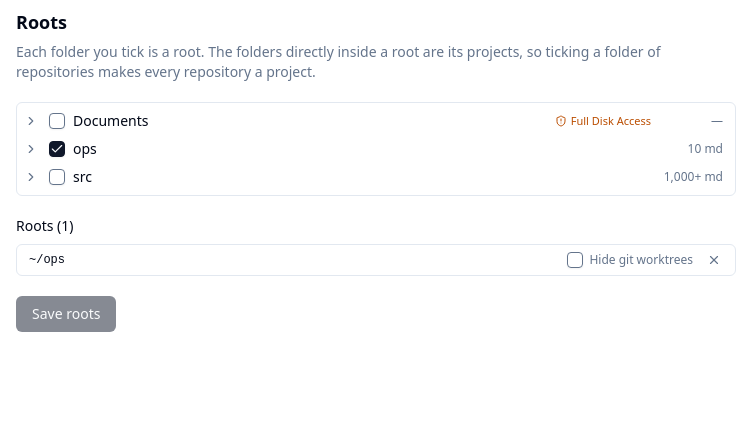
Test case: SettingsView — what a save means › waits for the supervised restart to come back on the new roots
Click the checkbox named "Use /Users/me/src as a root" at {"x": 57, "y": 177}, box [49,169,65,185]
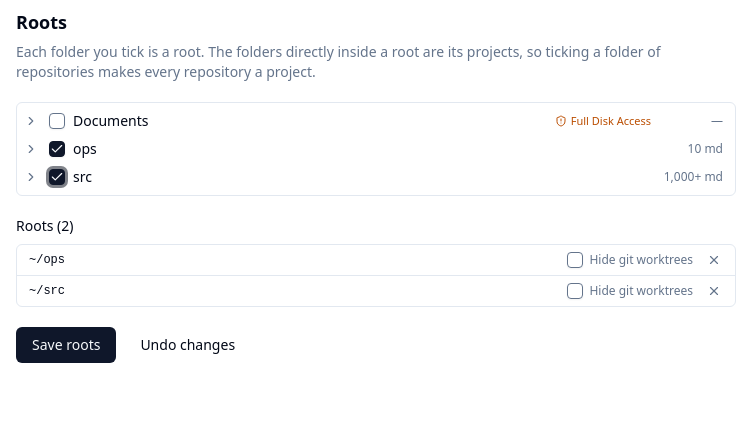
expect the button "Save roots" is enabled: met
Click the button "Save roots" at {"x": 66, "y": 345}, box [16,327,116,363]
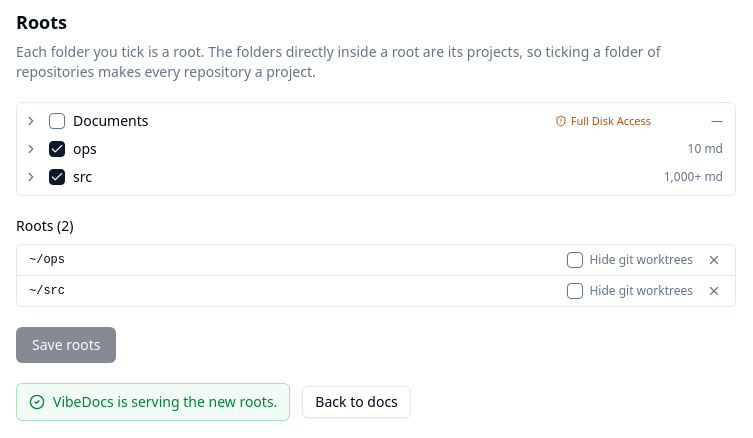
expect the text "VibeDocs is serving the new roots." is shown: met, box [53,392,277,412]
